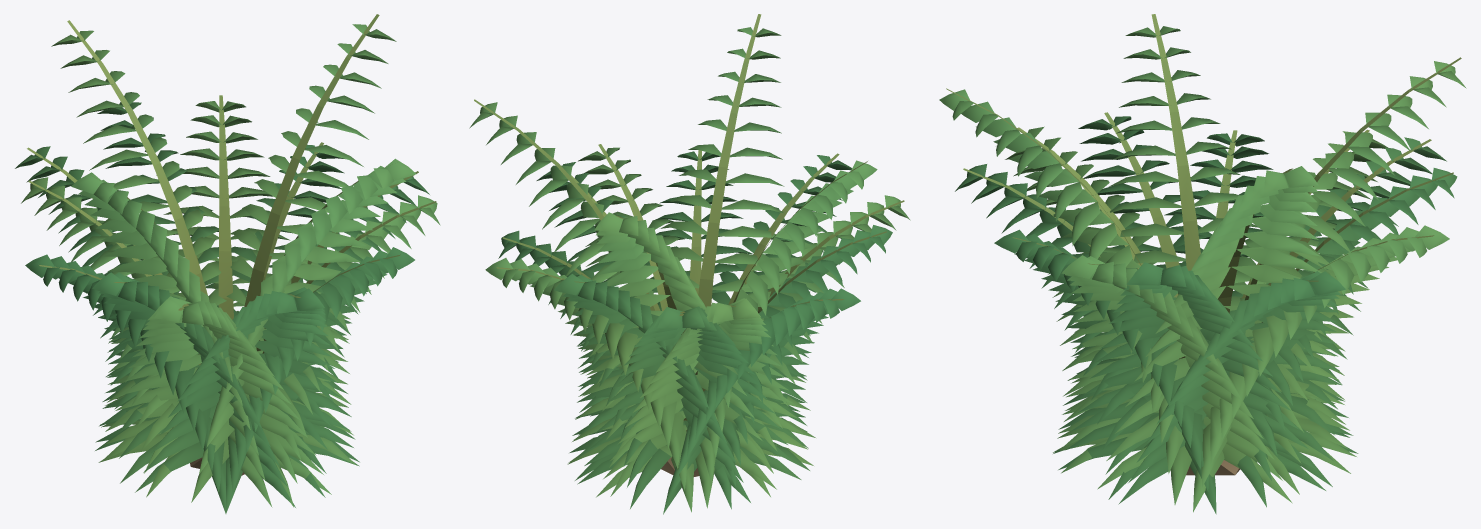
The model's file is fern_plant.cf3bf352.glb.
3 renders of one model, left to right at view 1: azimuth 30°, elevation 25°; view 2: azimuth 150°, elevation 25°; view 3: azimuth 270°, elevation 25°, orthographic. The views are drawn at different scales.
Parts seen in each view (by area): view 1: fern_plant; view 2: fern_plant; view 3: fern_plant.
Part boxes in pixels (x1,y1,x2,y2): fern_plant: [15, 14, 440, 513]; fern_plant: [469, 14, 910, 514]; fern_plant: [939, 14, 1466, 514].
Bounding box in the file's own units: 0.8993 × 0.8847 × 1.03.
